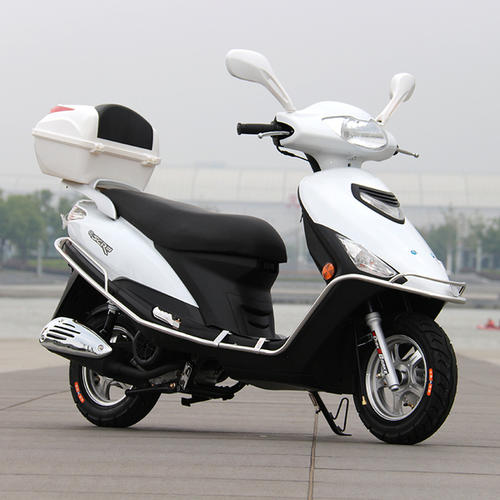motor: (35, 49, 460, 447)
